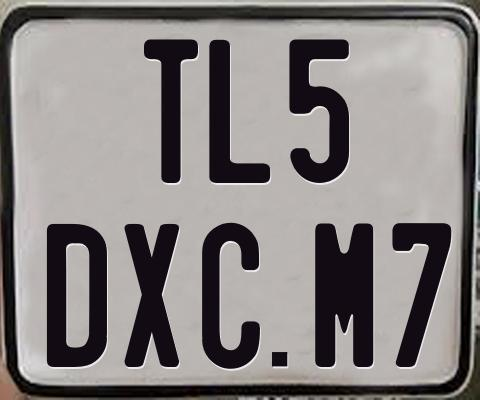5: (286, 38, 346, 188)
7: (389, 220, 449, 366)
C: (199, 221, 259, 367)
D: (44, 221, 107, 365)
L: (209, 39, 270, 187)
M: (315, 223, 377, 369)
T: (142, 36, 200, 185)
X: (124, 222, 179, 366)
